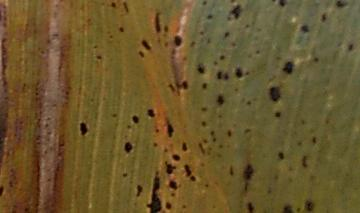tarspot: (145, 170, 162, 213), (173, 75, 189, 97), (241, 163, 255, 181), (162, 160, 177, 176), (269, 85, 281, 104), (164, 119, 175, 137), (281, 61, 294, 76), (78, 121, 89, 137), (167, 179, 180, 192), (153, 12, 161, 33), (230, 3, 241, 18), (141, 38, 152, 51), (183, 163, 193, 177), (304, 199, 314, 213), (123, 141, 133, 154), (173, 35, 183, 47), (245, 201, 255, 213), (197, 141, 205, 156), (134, 184, 142, 198), (300, 154, 308, 168), (146, 108, 156, 119), (281, 204, 293, 213), (196, 62, 205, 74), (215, 95, 225, 105), (335, 1, 349, 8), (234, 67, 242, 79), (122, 1, 130, 13), (228, 163, 235, 176), (138, 49, 147, 59), (299, 23, 308, 33), (171, 153, 182, 161), (320, 12, 328, 23), (215, 70, 223, 81), (167, 82, 175, 93), (181, 140, 188, 152), (131, 114, 139, 124), (164, 201, 172, 210), (277, 151, 285, 160), (218, 53, 226, 62), (217, 142, 225, 151), (1, 185, 6, 199), (189, 174, 197, 182), (161, 24, 169, 32), (222, 72, 229, 81), (226, 128, 233, 137), (243, 127, 252, 134), (274, 111, 281, 119), (188, 39, 195, 47), (197, 30, 205, 37), (94, 54, 102, 61), (125, 123, 133, 130), (230, 41, 237, 49), (163, 40, 169, 49), (118, 26, 125, 33), (312, 56, 319, 63), (200, 105, 207, 112), (254, 48, 261, 55), (243, 22, 250, 29), (216, 112, 223, 119), (278, 1, 286, 7), (206, 14, 214, 20), (223, 30, 229, 38), (209, 129, 215, 137), (311, 136, 316, 145), (201, 1, 210, 6), (347, 43, 353, 50), (121, 172, 128, 178), (201, 82, 207, 89), (110, 1, 116, 8), (201, 120, 207, 127), (244, 71, 251, 77), (202, 183, 210, 188), (181, 203, 186, 211), (163, 147, 169, 153), (200, 161, 206, 167), (296, 206, 301, 213), (153, 141, 158, 148), (154, 128, 161, 133), (226, 15, 231, 22), (246, 99, 251, 106), (110, 113, 118, 117), (211, 137, 217, 142), (170, 192, 175, 198), (228, 1, 236, 3), (270, 1, 277, 2)
